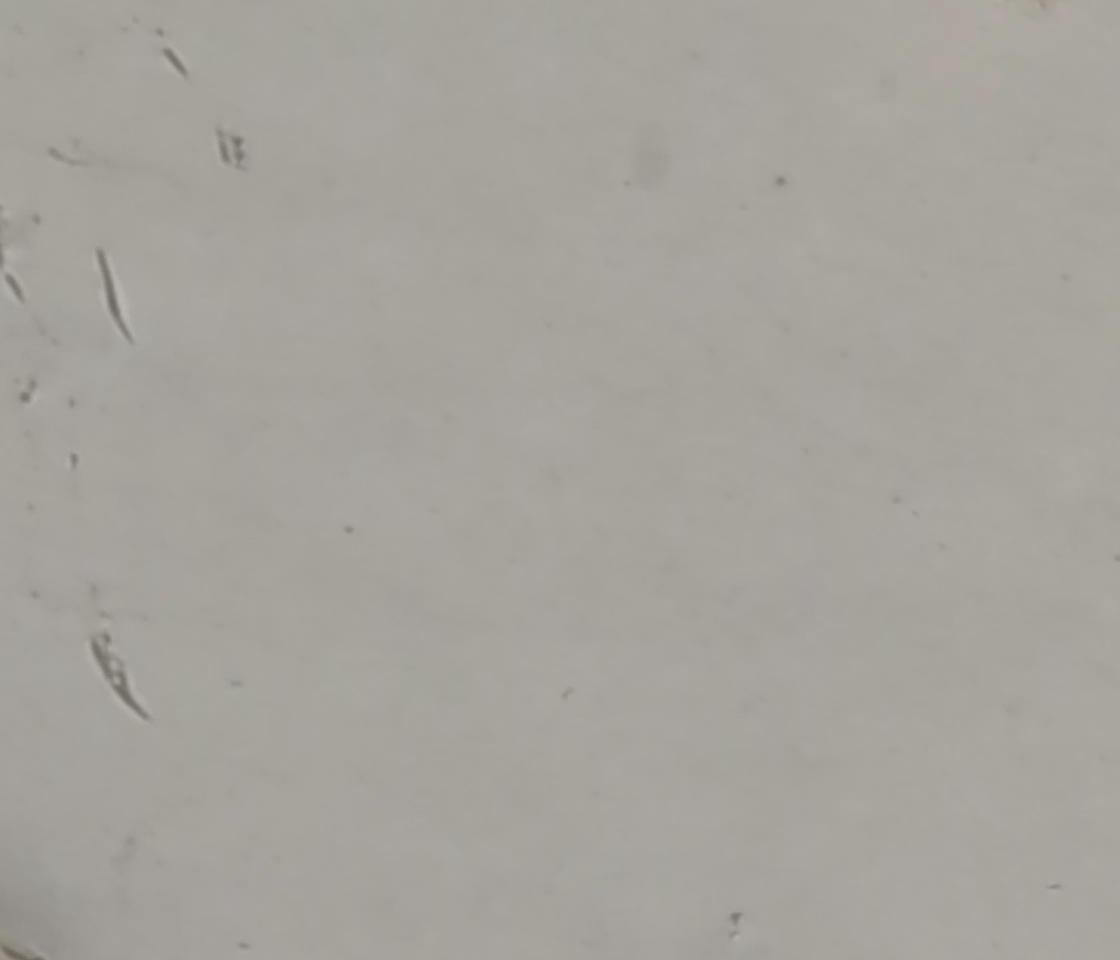scratch: (82, 633, 158, 733), (85, 242, 136, 347), (158, 41, 191, 82)
